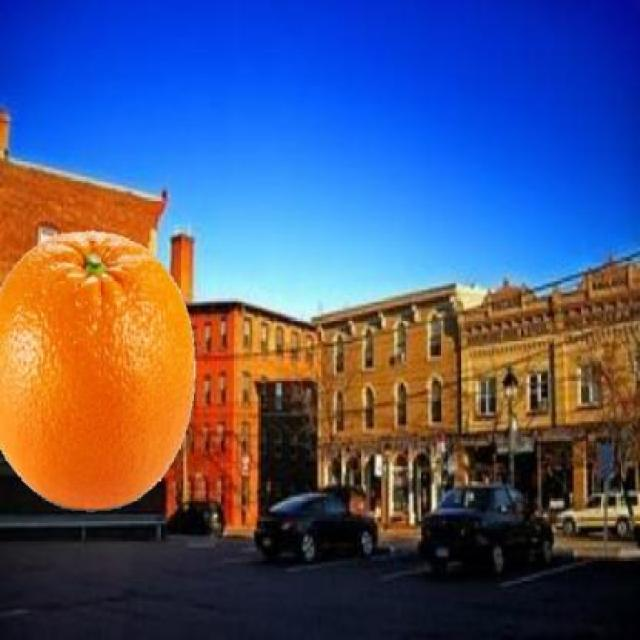Orange: (0, 228, 197, 512)
